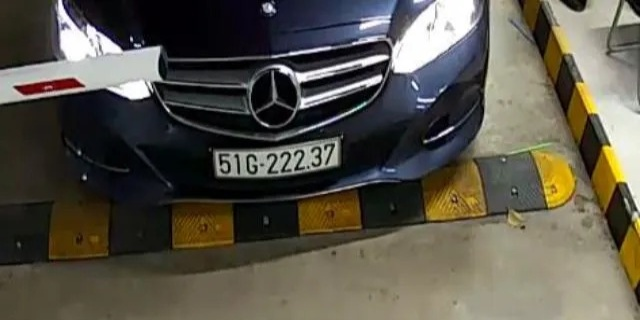bien_so: (214, 142, 338, 174)
